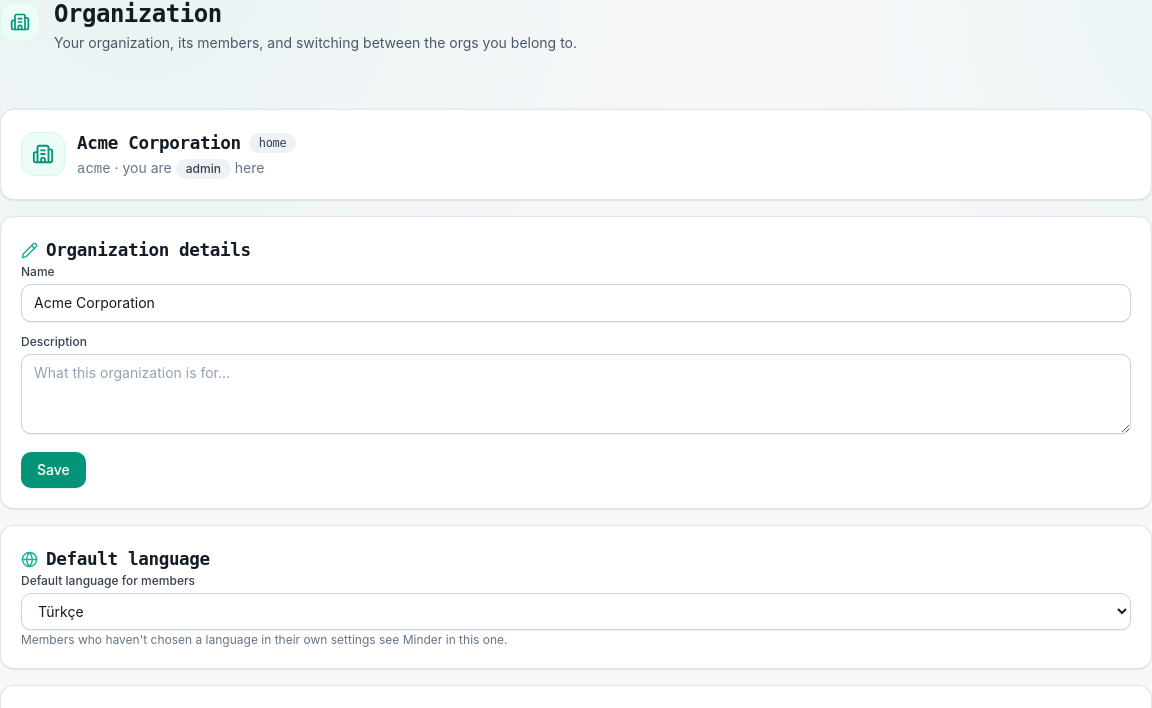
Test: OrganizationPage › offers the org's default language to an owner/admin only (#133)
The image size is (1152, 708).
Expected: the heading "Acme Corporation home" is shown, [77,130,296,156]
Select "English" in the dropdown labelled "Default language for members" at (576, 611), box [21,593,1131,630]
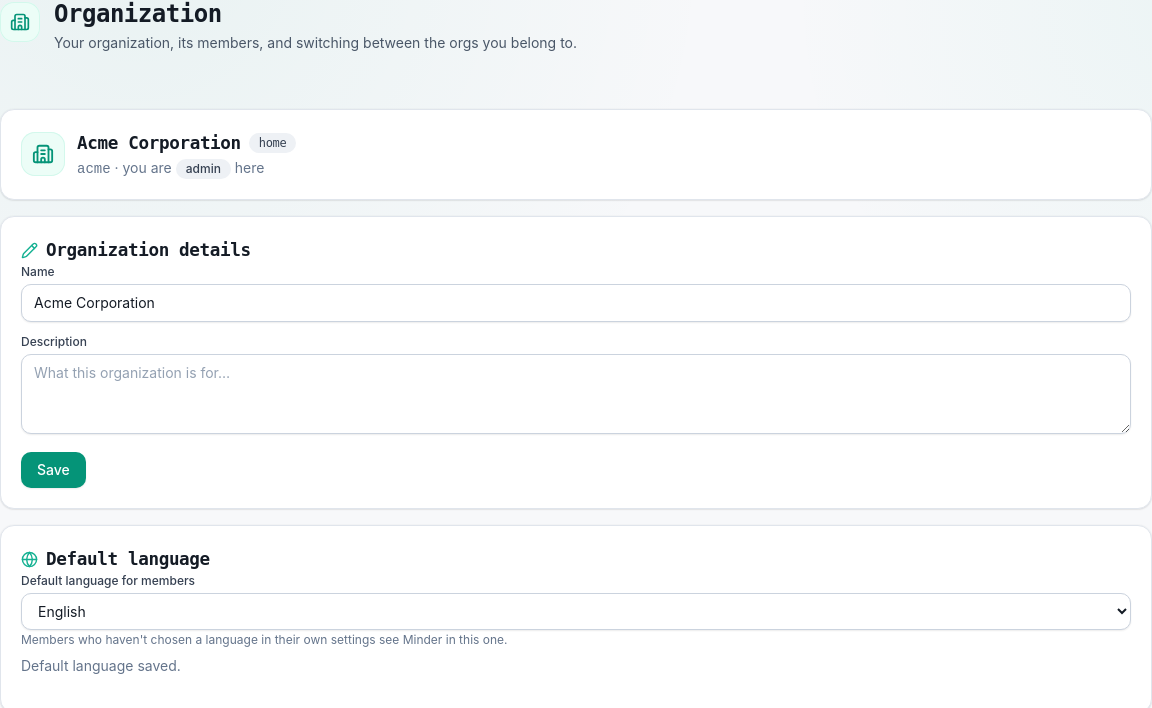
Now the text "Default language saved." is shown, box [21,657,181,674]
